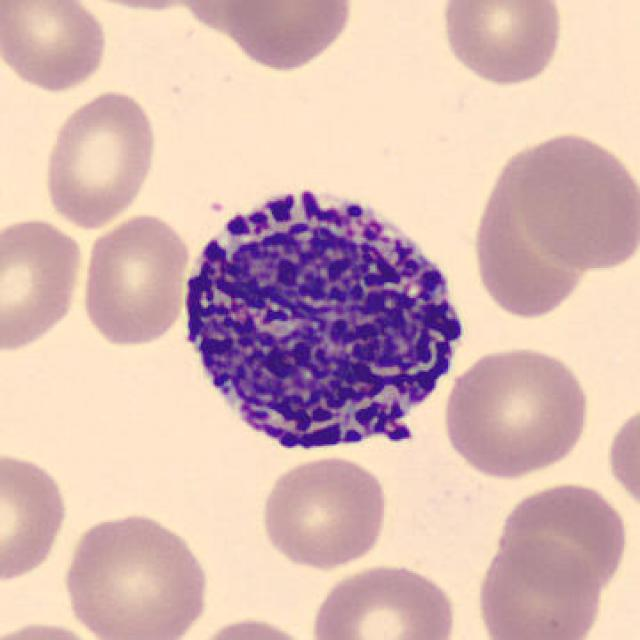Basophil: (164, 164, 478, 471)
RBC: (439, 341, 594, 482), (59, 506, 215, 640), (475, 149, 587, 326), (510, 127, 638, 273), (39, 85, 160, 231), (492, 478, 633, 596), (256, 451, 391, 573), (76, 210, 192, 351), (473, 536, 606, 640), (308, 559, 460, 640), (0, 213, 87, 354), (436, 0, 567, 88), (0, 0, 110, 93), (220, 0, 358, 74), (0, 446, 71, 585), (603, 397, 638, 518), (176, 0, 290, 33), (185, 613, 320, 640), (0, 617, 112, 640), (66, 0, 215, 14)
